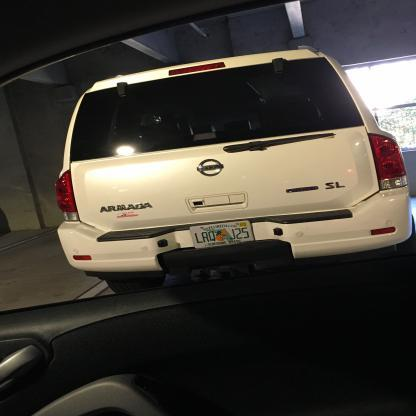License-Plate: (183, 215, 261, 255)
